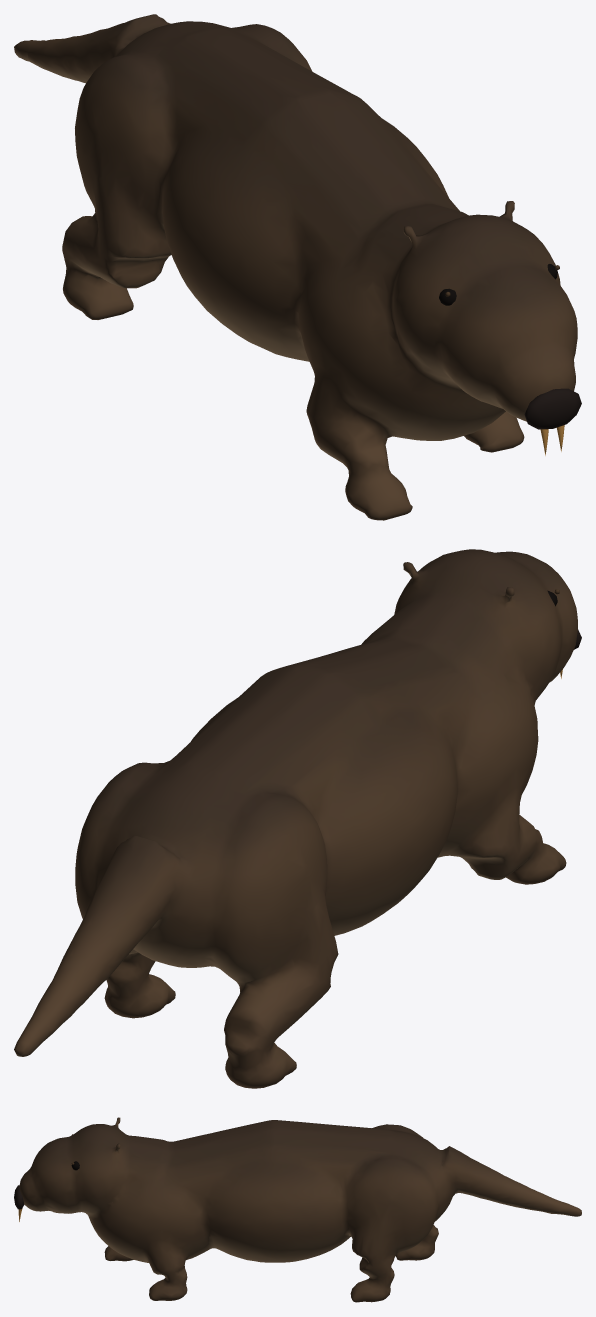
File: TaeniolabisTaoensis.fbx
The picture shows the model from 3 angles, top to bottom: view 1: azimuth 30°, elevation 25°; view 2: azimuth 150°, elevation 25°; view 3: azimuth 270°, elevation 25°; orthographic projection. The views are drawn at different scales.
Parts seen in each view (by area): view 1: TaeniolabisTaoensis; view 2: TaeniolabisTaoensis; view 3: TaeniolabisTaoensis.
Boxes of the visible parts, x1,y1,x2,y2 form: TaeniolabisTaoensis: [14, 14, 581, 520]; TaeniolabisTaoensis: [14, 549, 581, 1088]; TaeniolabisTaoensis: [14, 1117, 581, 1302].
Bounding box in the file's own units: 0.3821 × 0.4623 × 1.54.
